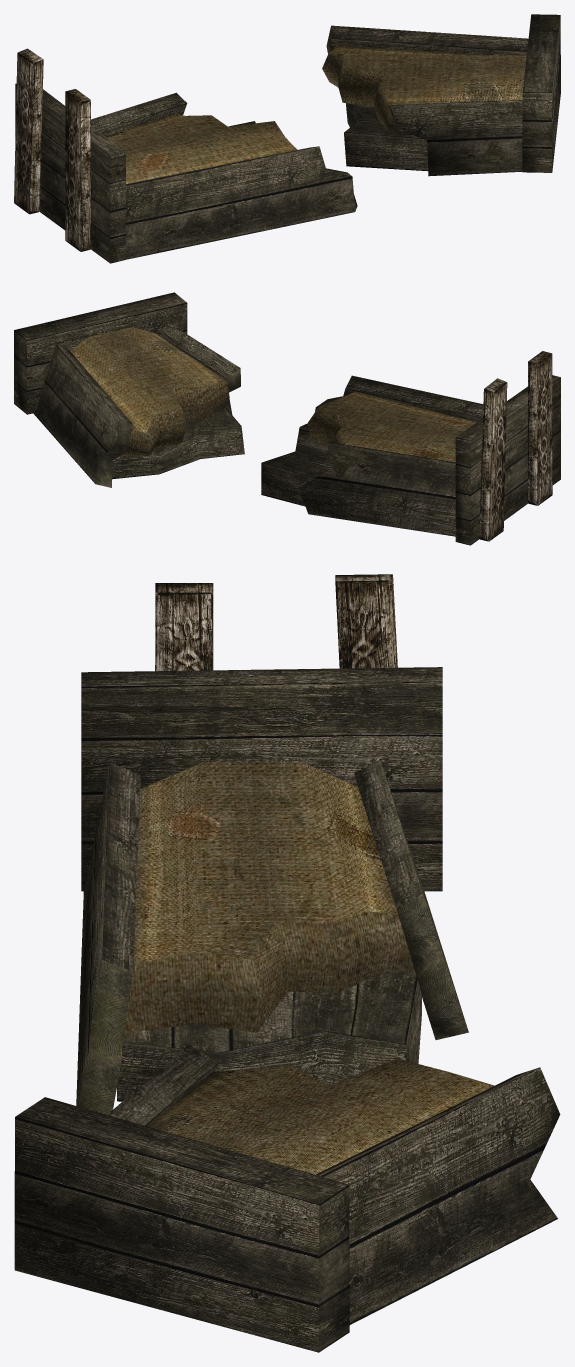
File: KM_BED_DESTROYED.glb
3 renders of one model, top to bottom at view 1: azimuth 30°, elevation 25°; view 2: azimuth 150°, elevation 25°; view 3: azimuth 270°, elevation 25°, orthographic. The views are drawn at different scales.
Visible parts, largest first — view 1: Mesh; view 2: Mesh; view 3: Mesh.
Part boxes in pixels (box(x1,y1,x2,y2)): Mesh: box(14, 14, 560, 263); Mesh: box(14, 292, 560, 545); Mesh: box(14, 574, 560, 1352).
Size of the model in its own units: 4.04 by 1.22 by 1.92.
4 materials, 4 textured.
